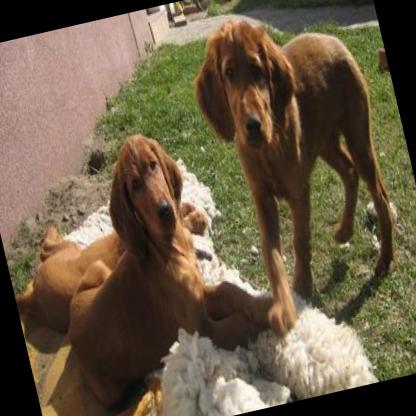Irish_setter: (21, 107, 292, 416), (179, 0, 414, 334), (1, 190, 224, 338)
